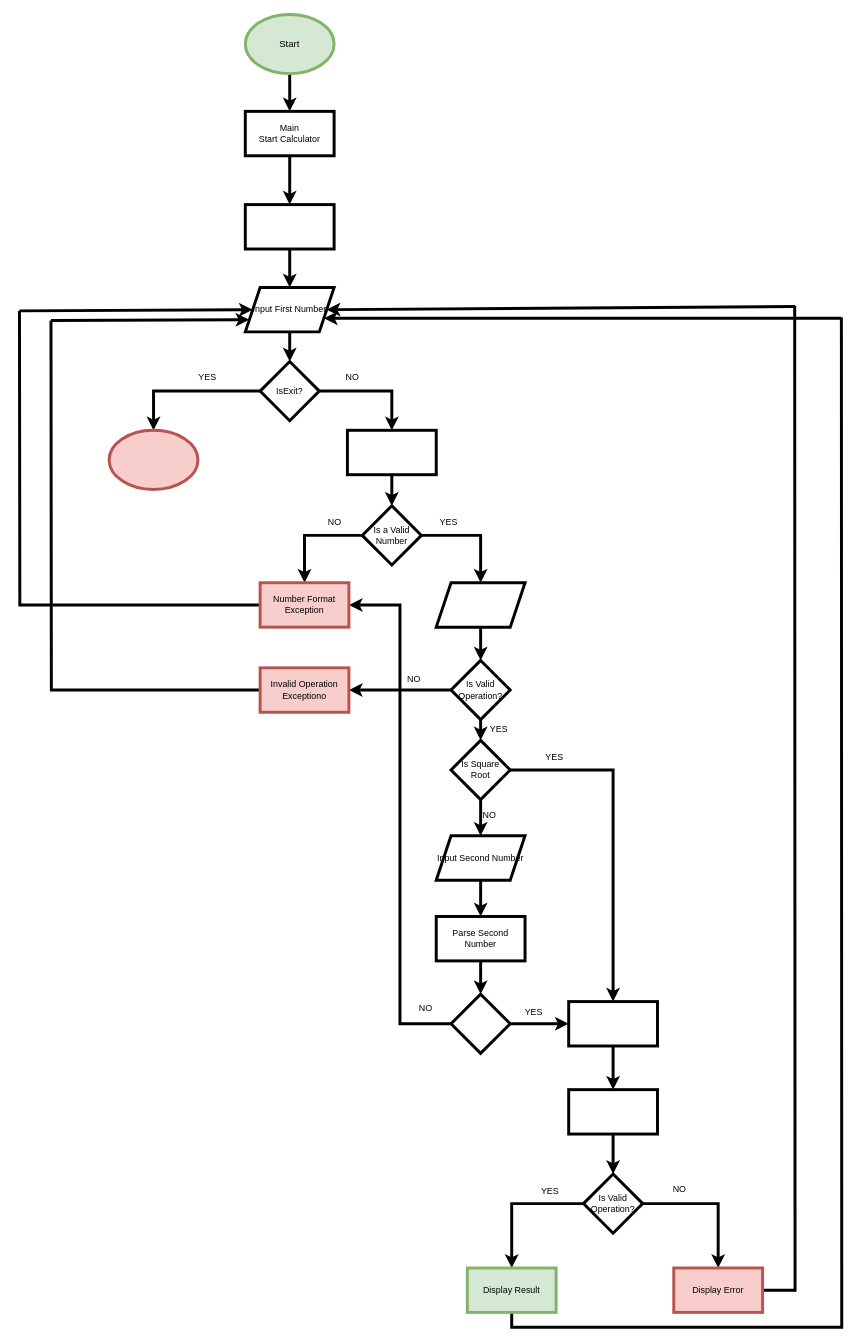
Image size: 861x1342. Some labels were removed from this diagram. Here are the shapes that lost their labels. From the top down, the centre of each, then its label:
(x=289, y=226): Calculator run()
(x=153, y=459): Exit
(x=391, y=452): Parse First Number
(x=480, y=604): Input Operator
(x=480, y=1023): Is a Valid Number?
(x=613, y=1023): Create Operation
(x=613, y=1111): Calculate
